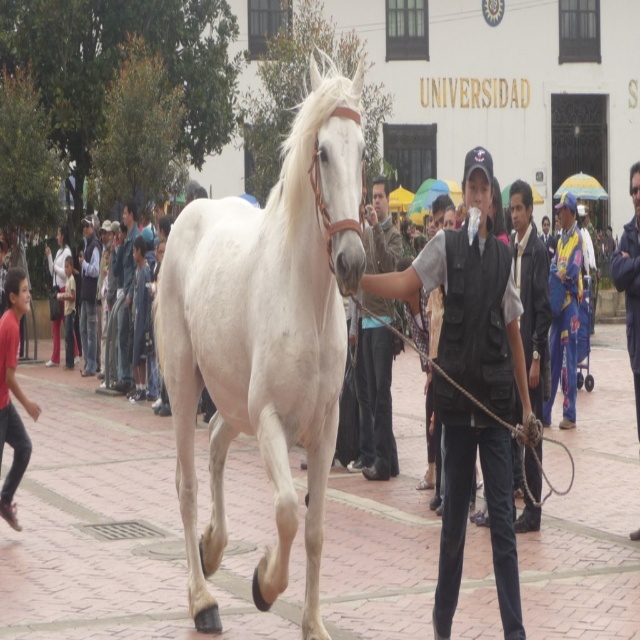Horse: (151, 46, 369, 639)
